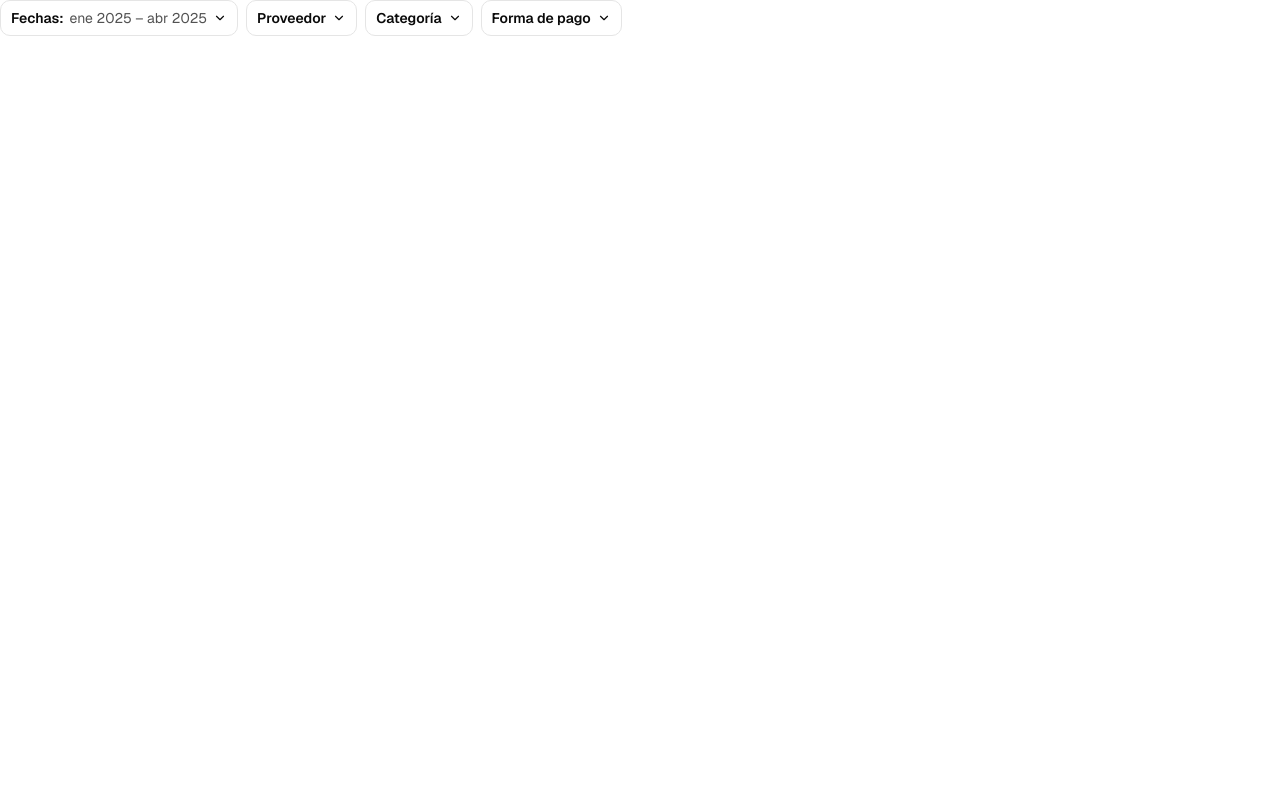
it: FilterBar option lists › shows SAT catalog names for formas, never a bare code
Click the button "Forma de pago".
click(551, 18)  # box [480,0,622,36]
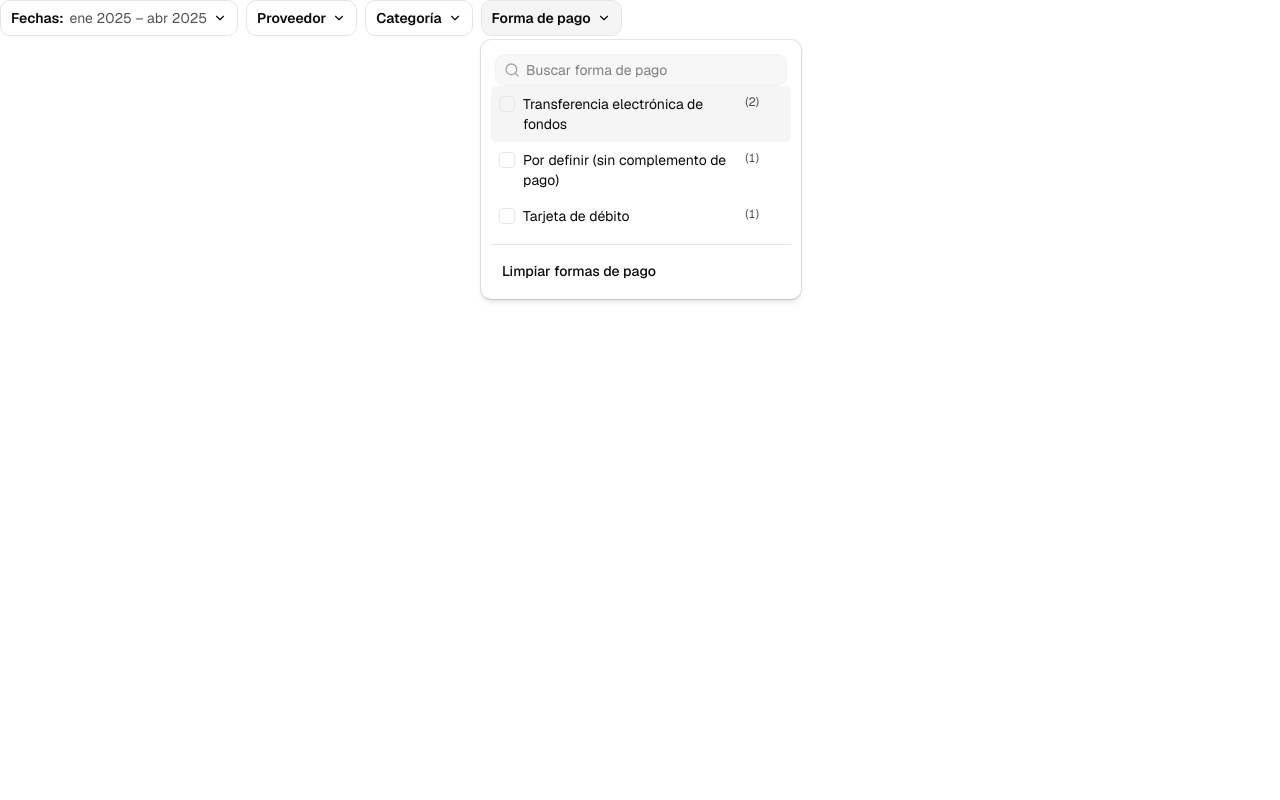
Now the option "Transferencia electrónica de fondos (2)" is shown, box [491,86,791,142]
Now the option "Tarjeta de débito (1)" is shown, box [499,206,759,225]
